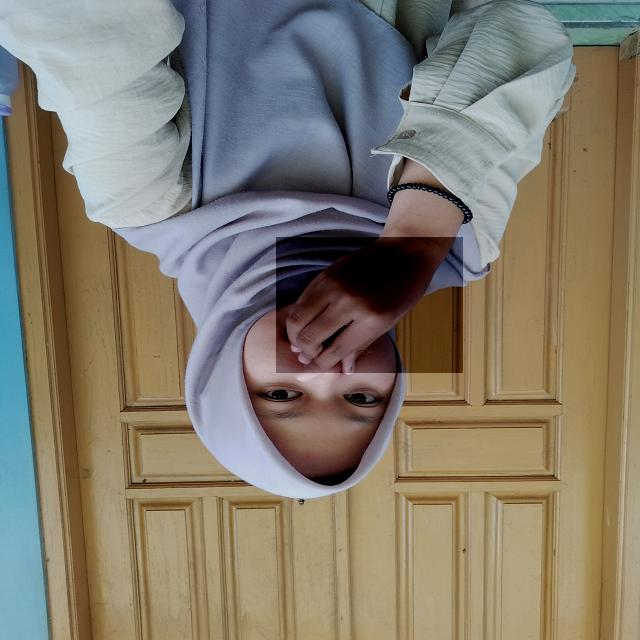bau: (276, 237, 463, 373)
